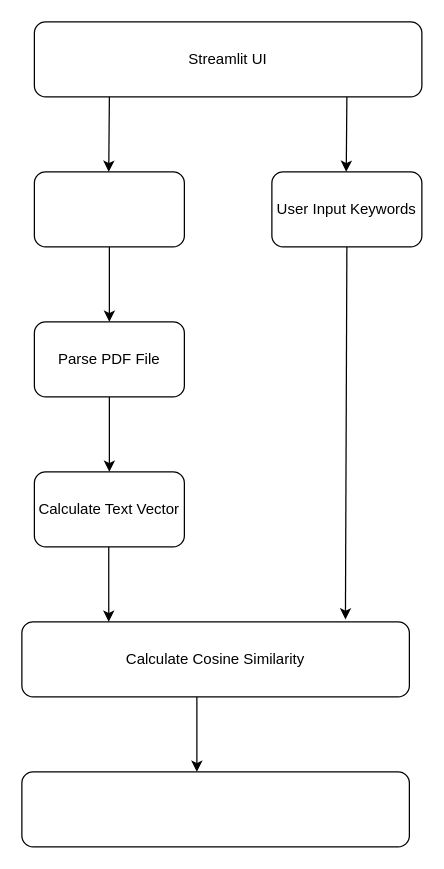
This 444x869 diagram has some shape labels left out. The box of each missing label's shape, as (x1, y1, x2, y2) in pixels:
Print Table with the Best Similarity: (21, 771, 409, 847)
User Upload PDF: (33, 171, 184, 247)
